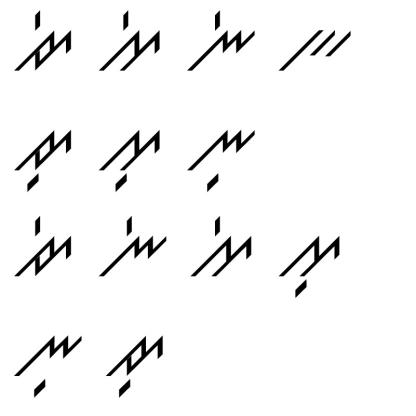je: (9, 8, 76, 79), (13, 211, 77, 279)
ju: (103, 331, 171, 404), (11, 121, 77, 193)
nye: (179, 7, 260, 75), (94, 212, 169, 285)
nyu: (12, 324, 84, 404), (185, 121, 258, 194)
se: (186, 209, 260, 285), (96, 3, 166, 72)
su: (96, 119, 168, 194), (276, 227, 346, 299)
